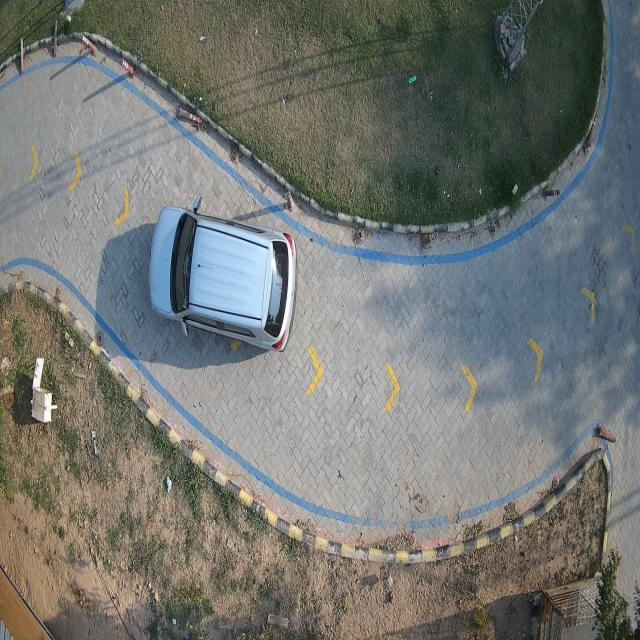car: (149, 200, 298, 350)
